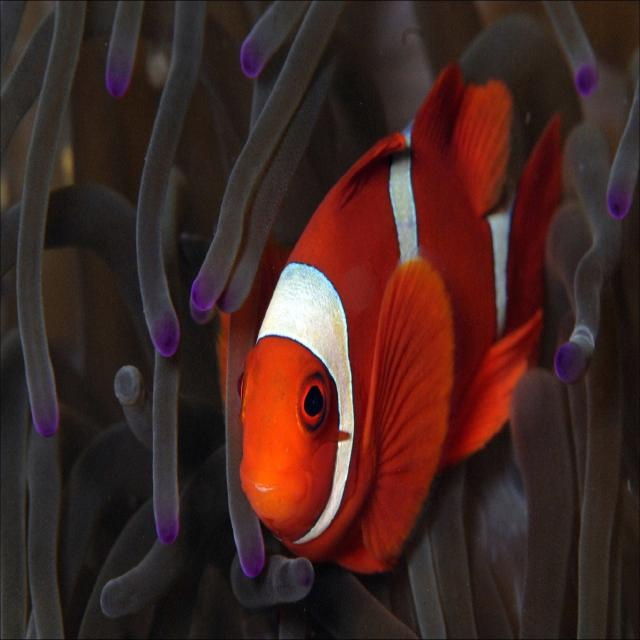ClownFish: (240, 70, 560, 580)
